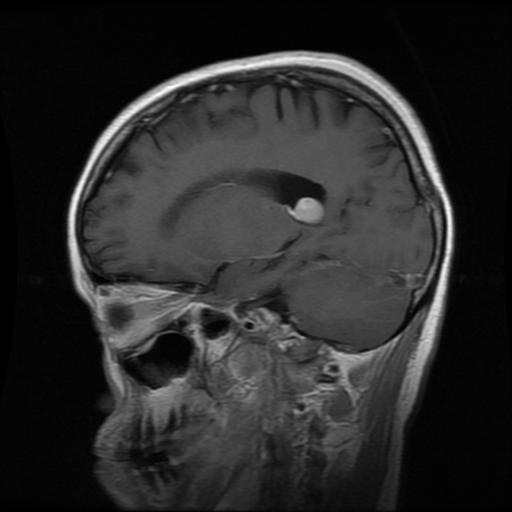Menigiomia_tumour: (290, 195, 322, 222)
